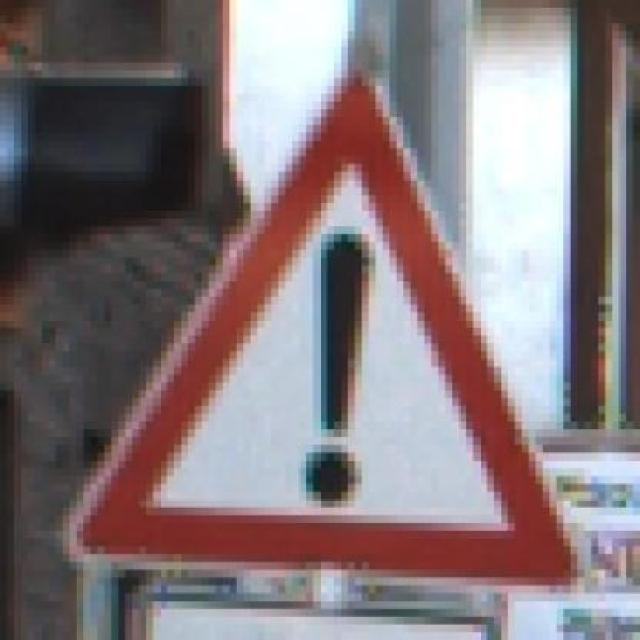Attention Please-: (56, 70, 598, 601)
